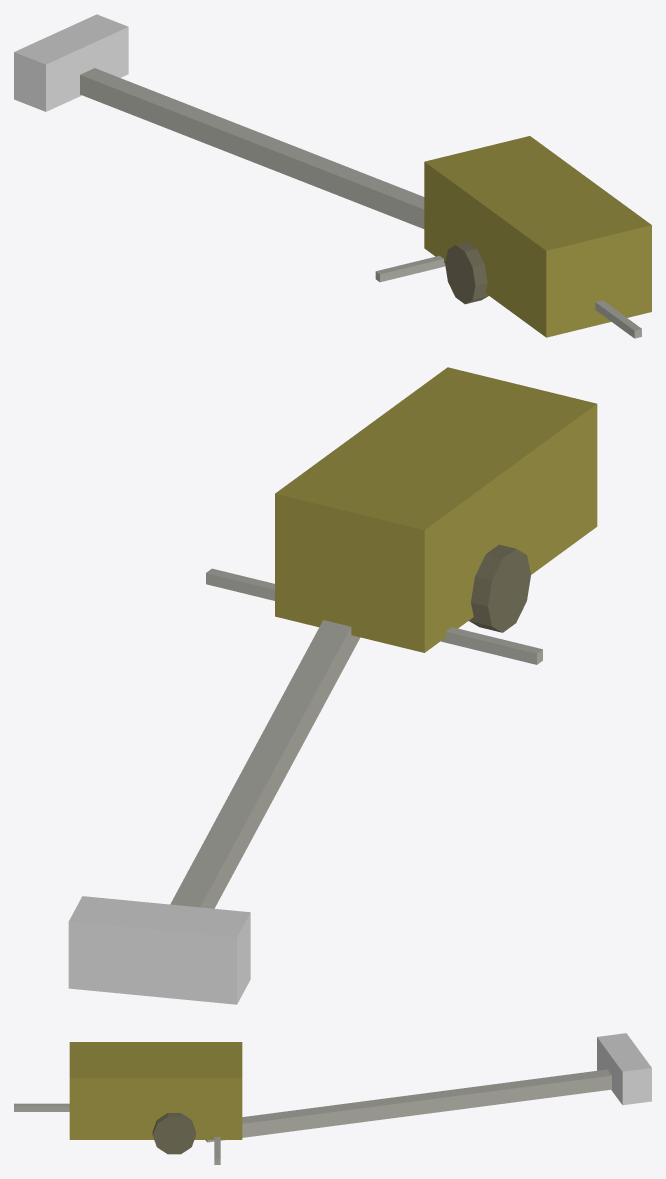
Rendered from SM_TorreLuz_v4_Caida_LOD0.fbx.
3 views of the same model, one above another, from view 1: azimuth 30°, elevation 25°; view 2: azimuth 150°, elevation 25°; view 3: azimuth 270°, elevation 25° (orthographic). The views are drawn at different scales.
Visible parts, largest first — view 1: SM_ambiente_aerodromo_v19_LOD0; view 2: SM_ambiente_aerodromo_v19_LOD0; view 3: SM_ambiente_aerodromo_v19_LOD0.
Part boxes in pixels (x1,y1,x2,y2): SM_ambiente_aerodromo_v19_LOD0: (14, 14, 651, 338); SM_ambiente_aerodromo_v19_LOD0: (68, 367, 597, 1004); SM_ambiente_aerodromo_v19_LOD0: (14, 1033, 651, 1164).
Bounding box in the file's own units: 4.09 × 1.3 × 10.35.
